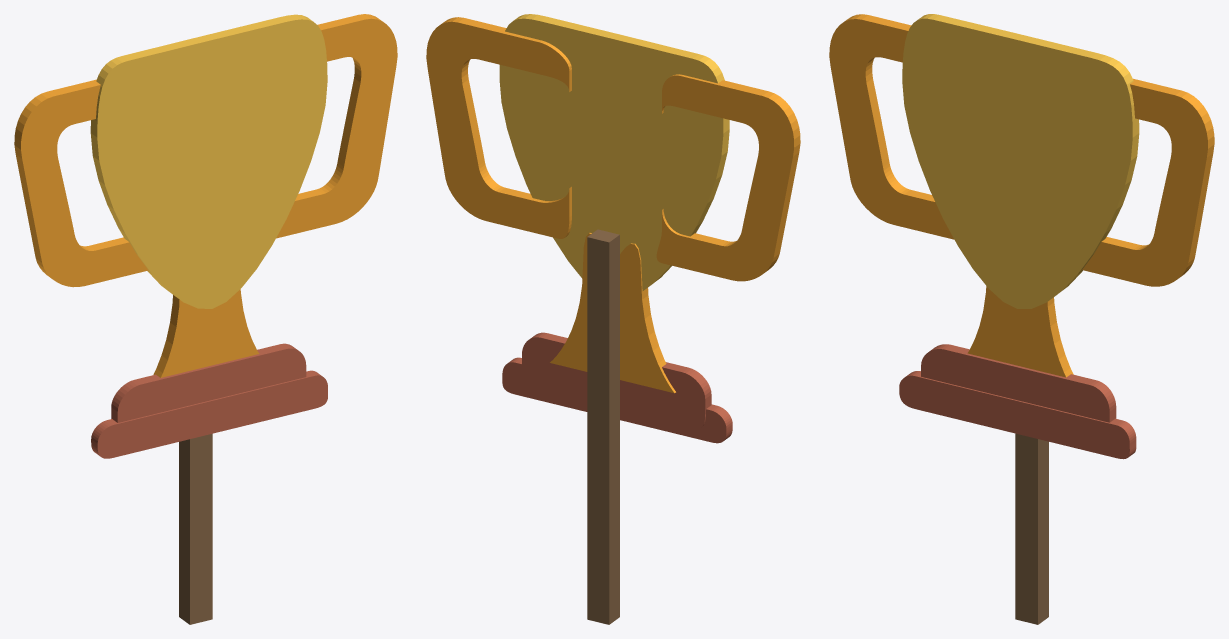
File: trophee.glb
The picture shows the model from 3 angles, left to right: view 1: azimuth 30°, elevation 25°; view 2: azimuth 150°, elevation 25°; view 3: azimuth 330°, elevation 25°; orthographic projection. The views are drawn at different scales.
Bounding box in the file's own units: 1 × 1.49 × 0.105.
